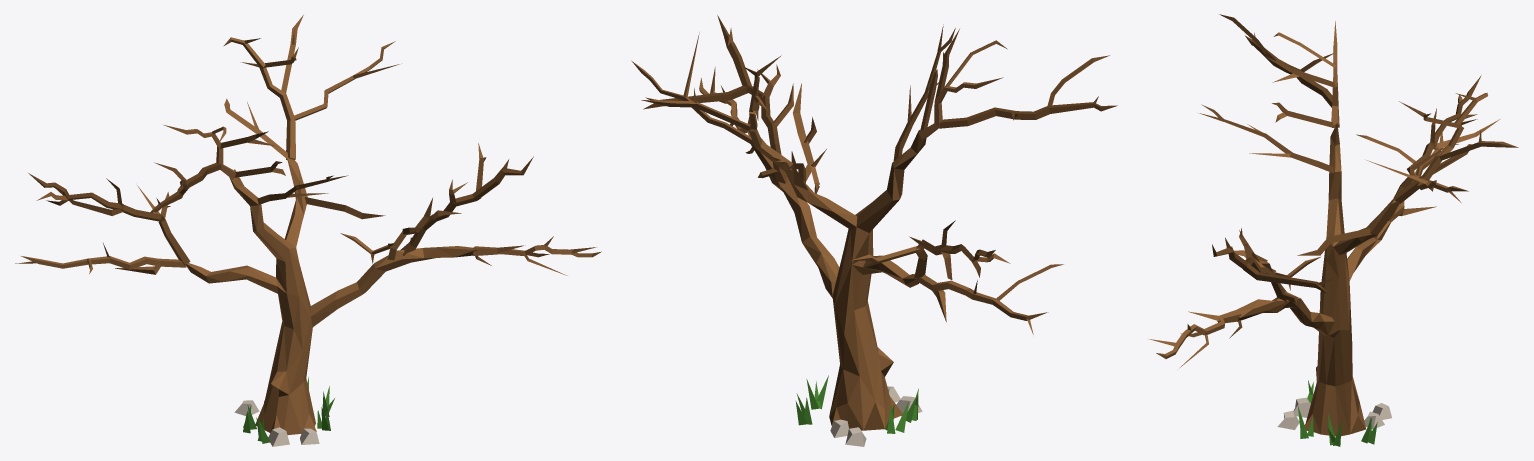
The model's file is guayacan_3_bare.glb.
3 renders of one model, left to right at view 1: azimuth 30°, elevation 25°; view 2: azimuth 150°, elevation 25°; view 3: azimuth 270°, elevation 25°, orthographic. The views are drawn at different scales.
Visible parts, largest first — view 1: guayacan_3_bare; view 2: guayacan_3_bare; view 3: guayacan_3_bare.
Boxes of the visible parts, <box> form: guayacan_3_bare: <box>15,15,601,446</box>; guayacan_3_bare: <box>631,15,1117,446</box>; guayacan_3_bare: <box>1149,14,1518,446</box>.
Size of the model in its own units: 8.22 by 5.98 by 5.77.
